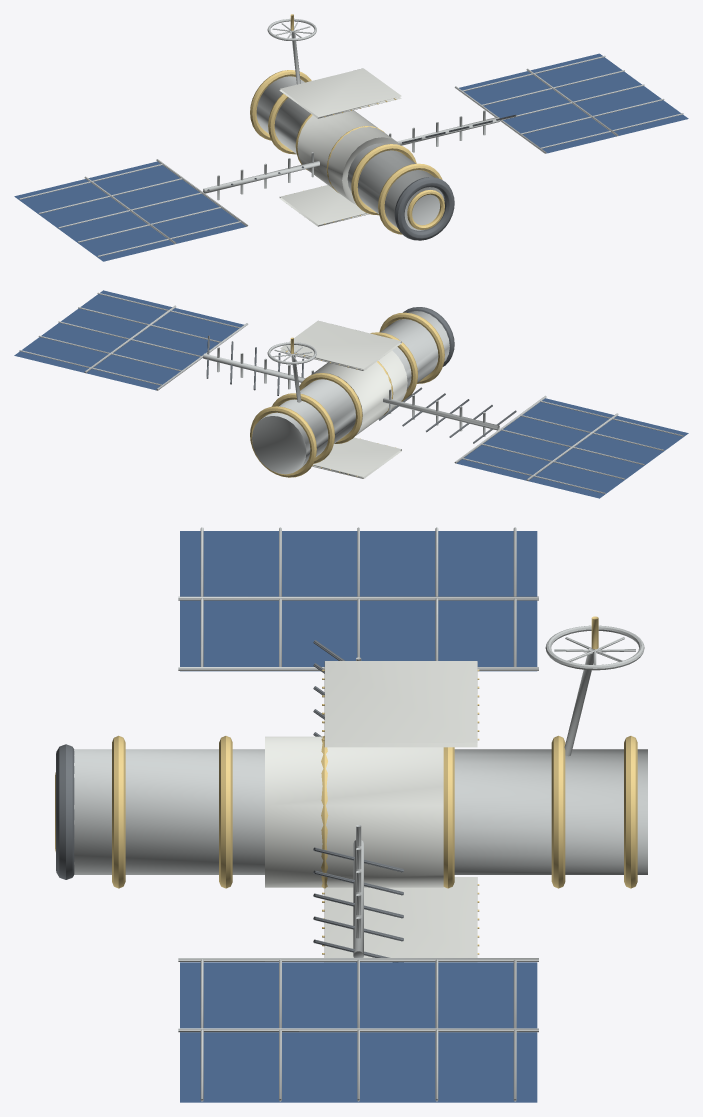
Rendered from janus_station.glb.
The picture shows the model from 3 angles, top to bottom: view 1: azimuth 30°, elevation 25°; view 2: azimuth 150°, elevation 25°; view 3: azimuth 270°, elevation 25°; orthographic projection. The views are drawn at different scales.
Visible parts, largest first — view 1: janus_station_solar, janus_station_metal_brushed, janus_station_ceramic, janus_station_gold_v, janus_station_steel_dark; view 2: janus_station_solar, janus_station_metal_brushed, janus_station_ceramic, janus_station_gold_v, janus_station_steel_dark; view 3: janus_station_solar, janus_station_metal_brushed, janus_station_ceramic, janus_station_gold_v, janus_station_steel_dark.
Part boxes in pixels (x1=…): janus_station_solar: x1=14, y1=53, x2=688, y2=261; janus_station_metal_brushed: x1=19, y1=18, x2=683, y2=256; janus_station_ceramic: x1=279, y1=68, x2=401, y2=226; janus_station_gold_v: x1=250, y1=14, x2=444, y2=234; janus_station_steel_dark: x1=207, y1=114, x2=516, y2=240; janus_station_solar: x1=14, y1=290, x2=688, y2=498; janus_station_metal_brushed: x1=19, y1=292, x2=683, y2=493; janus_station_ceramic: x1=280, y1=320, x2=407, y2=478; janus_station_gold_v: x1=250, y1=312, x2=444, y2=477; janus_station_steel_dark: x1=206, y1=307, x2=516, y2=443; janus_station_solar: x1=180, y1=531, x2=537, y2=1102; janus_station_metal_brushed: x1=74, y1=527, x2=647, y2=1101; janus_station_ceramic: x1=265, y1=661, x2=477, y2=962; janus_station_gold_v: x1=55, y1=616, x2=637, y2=954; janus_station_steel_dark: x1=56, y1=640, x2=403, y2=962.
Bounding box in the file's own units: 15.9 × 3.95 × 6.97.
